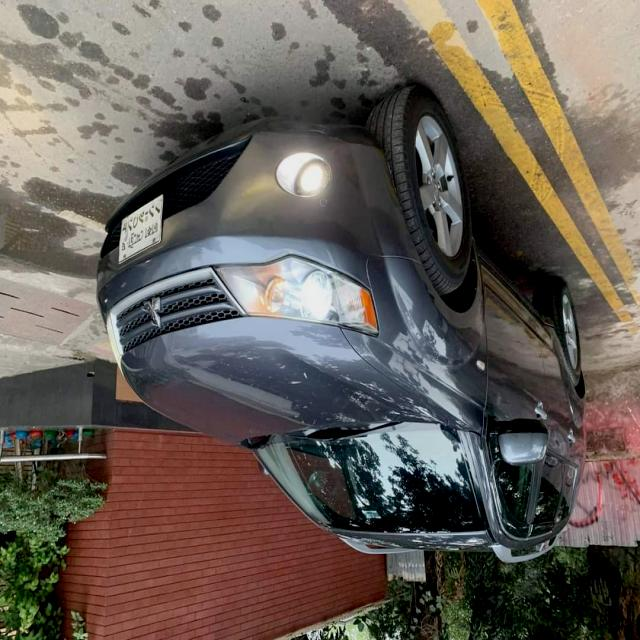silver: (88, 130, 588, 559)
